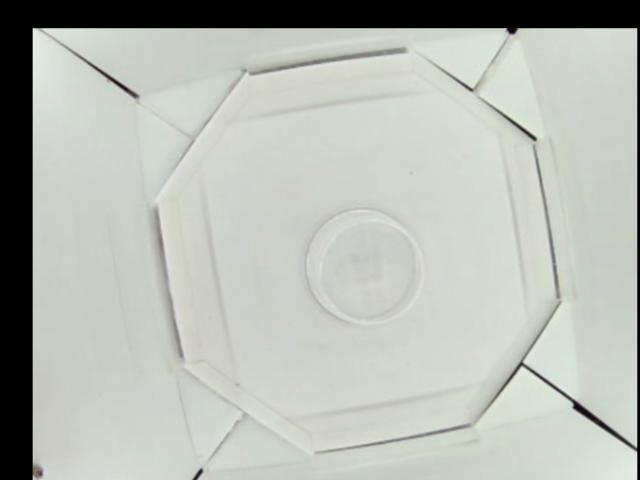Cup: (302, 204, 425, 326)
